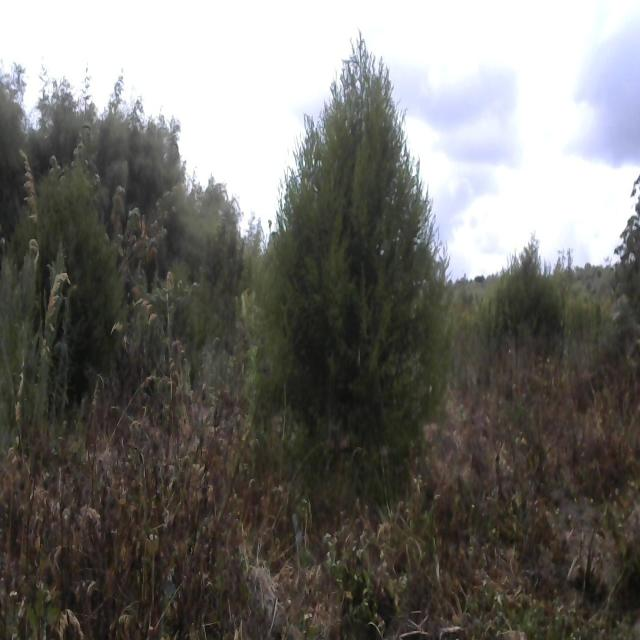Juniperus procesera: (235, 20, 454, 494), (41, 157, 119, 406), (484, 230, 570, 342)
